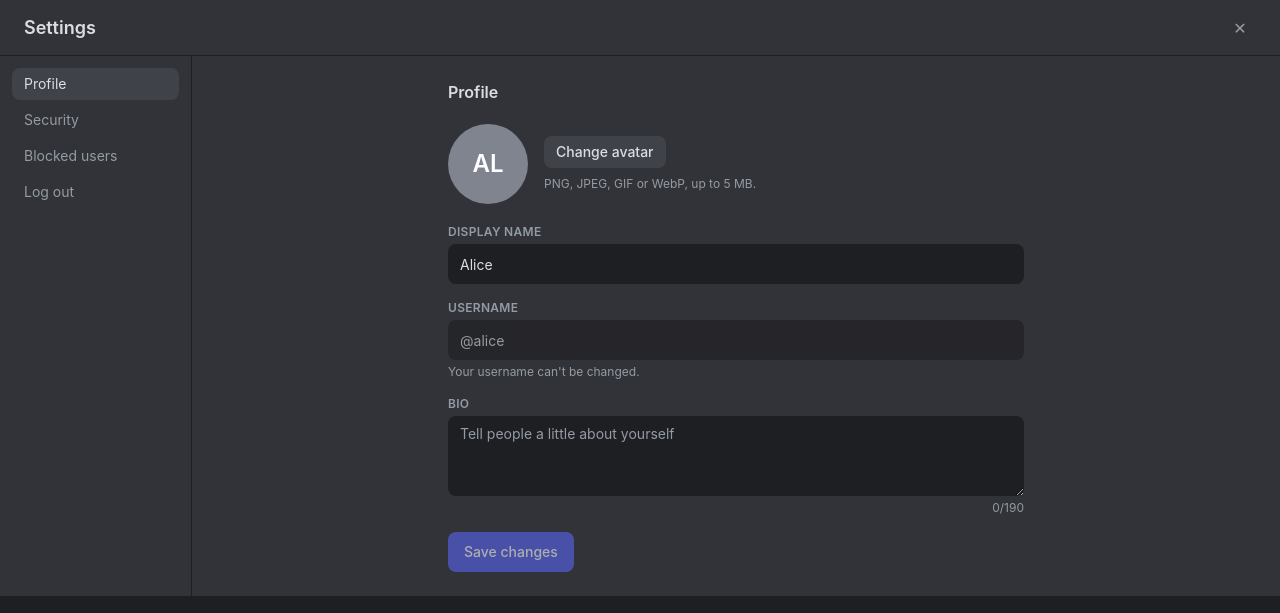
Test case: SettingsPage › switches sections via the nav
Click the button "Security": click(96, 120) x1=12 y1=104 x2=179 y2=136
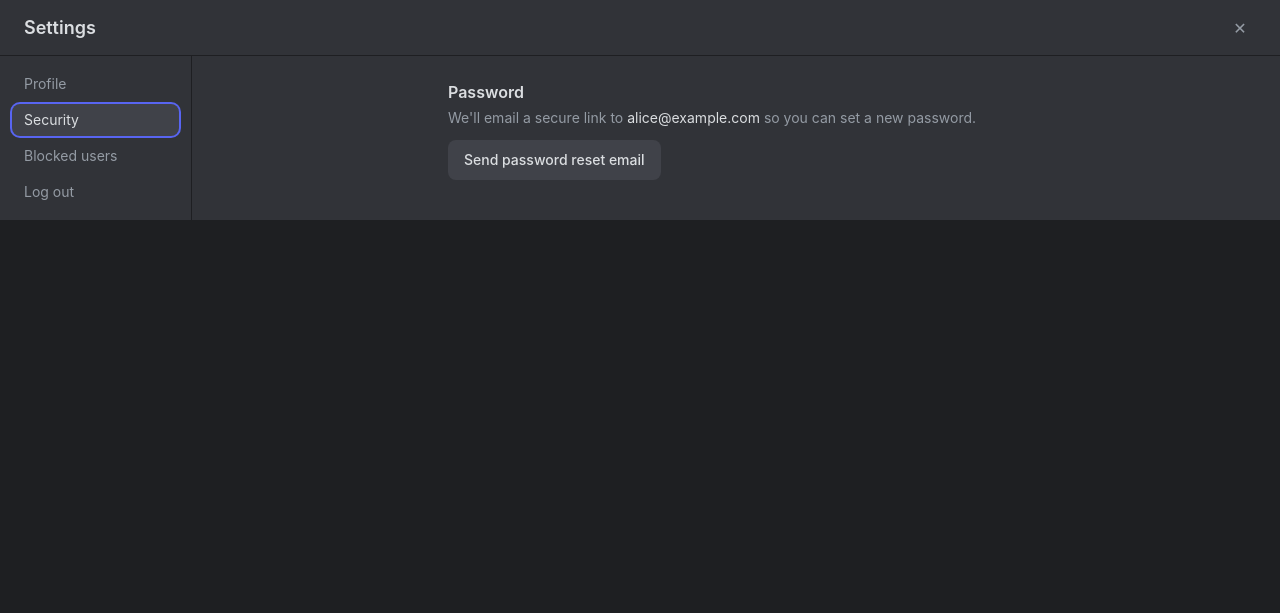
expect the button "Send password reset email" is shown: met, box x1=448 y1=140 x2=661 y2=180
